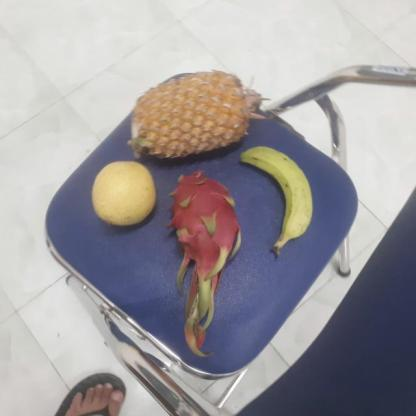banana: (236, 146, 314, 239)
pineapple: (127, 72, 254, 164)
pitaya: (166, 170, 242, 269)
